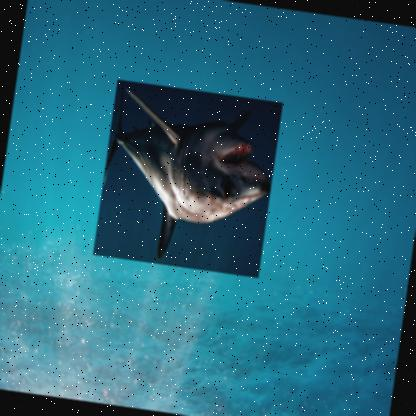mako-shark: (92, 78, 282, 278)
